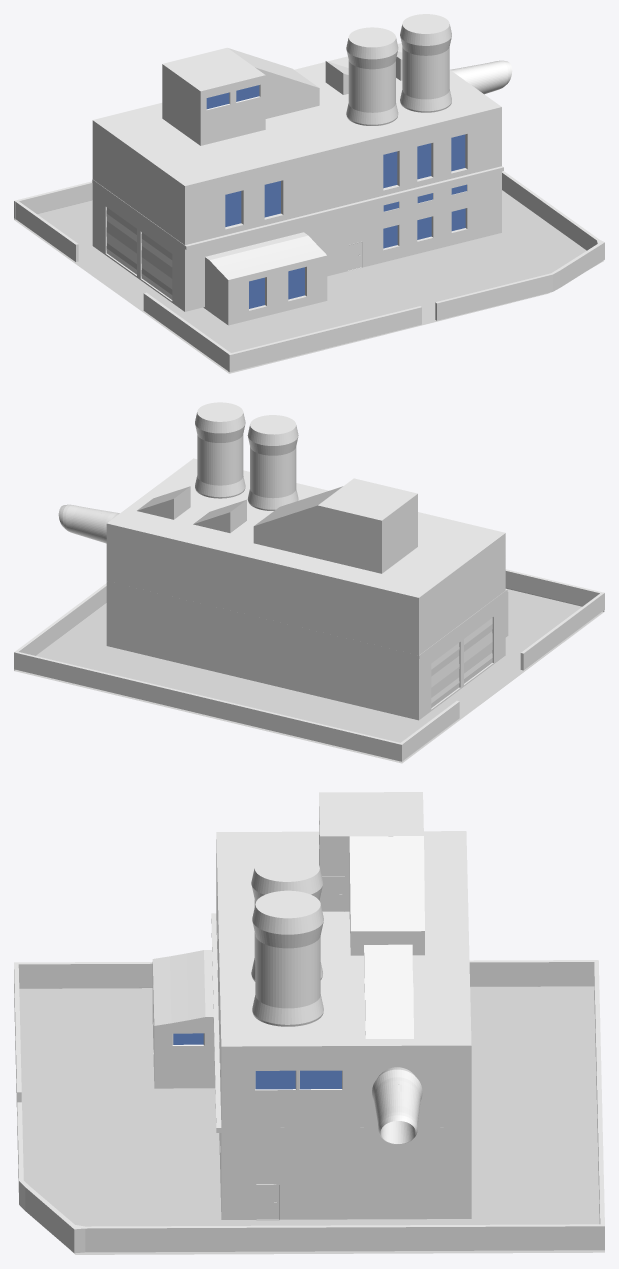
Rendered from factory2.glb.
The picture shows the model from 3 angles, top to bottom: view 1: azimuth 30°, elevation 25°; view 2: azimuth 150°, elevation 25°; view 3: azimuth 270°, elevation 25°; orthographic projection. The views are drawn at different scales.
Parts seen in each view (by area): view 1: Factory, Plane; view 2: Factory, Plane; view 3: Factory, Plane.
Part boxes in pixels (x1,y1,x2,y2): Factory: [14, 14, 604, 372]; Plane: [14, 190, 603, 373]; Factory: [14, 402, 604, 761]; Plane: [14, 588, 604, 763]; Factory: [14, 792, 604, 1253]; Plane: [19, 986, 604, 1254].
Size of the model in its own units: 10.52 by 4.89 by 9.26.
